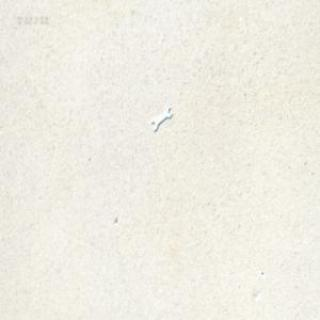Wrenchtrack_idkeyframe: (150, 107, 172, 132)
